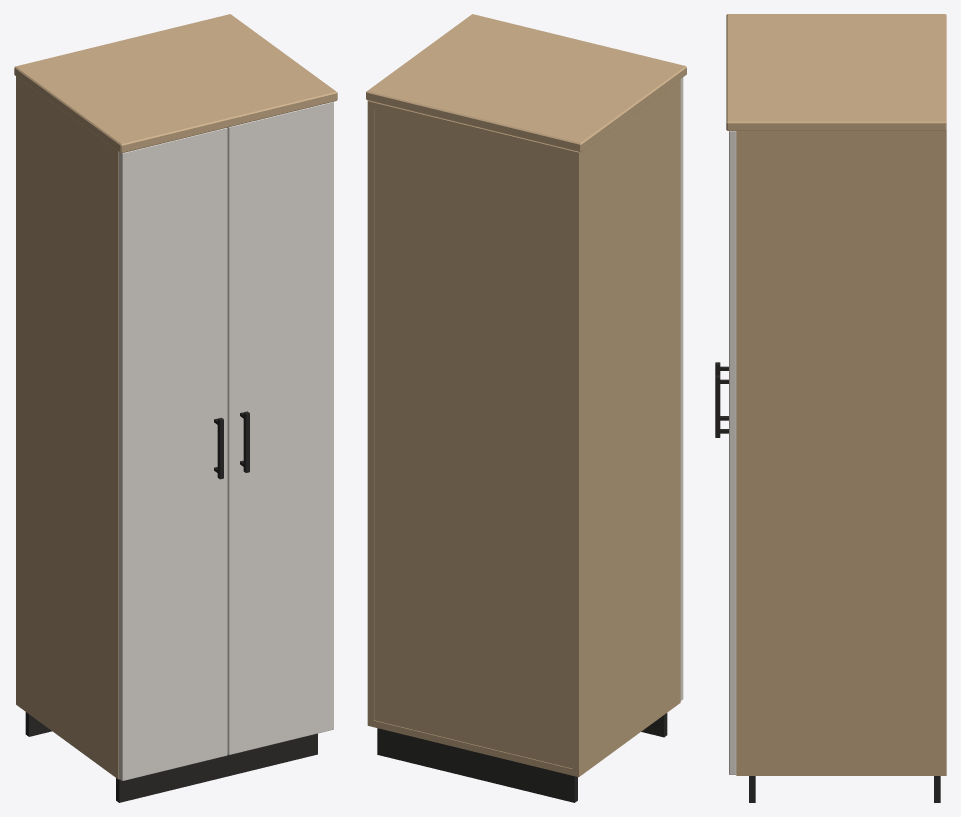
The model's file is 50_szafka_gospodarcza_60.glb.
3 renders of one model, left to right at view 1: azimuth 30°, elevation 25°; view 2: azimuth 150°, elevation 25°; view 3: azimuth 270°, elevation 25°, orthographic. The views are drawn at different scales.
Parts seen in each view (by area): view 1: Front_drzwi_1, Front_drzwi_2, Korpus, Wierzch, Cokol, Uchwyty; view 2: Korpus, Wierzch, Cokol, Front_drzwi_1; view 3: Korpus, Wierzch, Front_drzwi_2, Uchwyty.
Part boxes in pixels (x1,y1,x2,y2): Front_drzwi_1: (119, 127, 227, 780); Front_drzwi_2: (227, 101, 333, 754); Korpus: (16, 76, 119, 779); Wierzch: (14, 14, 337, 153); Cokol: (25, 712, 317, 802); Uchwyty: (214, 411, 249, 479); Korpus: (367, 79, 680, 777); Wierzch: (366, 14, 686, 152); Cokol: (377, 713, 667, 802); Front_drzwi_1: (680, 77, 683, 700); Korpus: (736, 130, 946, 775); Wierzch: (726, 14, 946, 130); Front_drzwi_2: (729, 131, 736, 774); Uchwyty: (715, 362, 728, 437).
Bounding box in the file's own units: 0.612 × 1.8 × 0.55.
